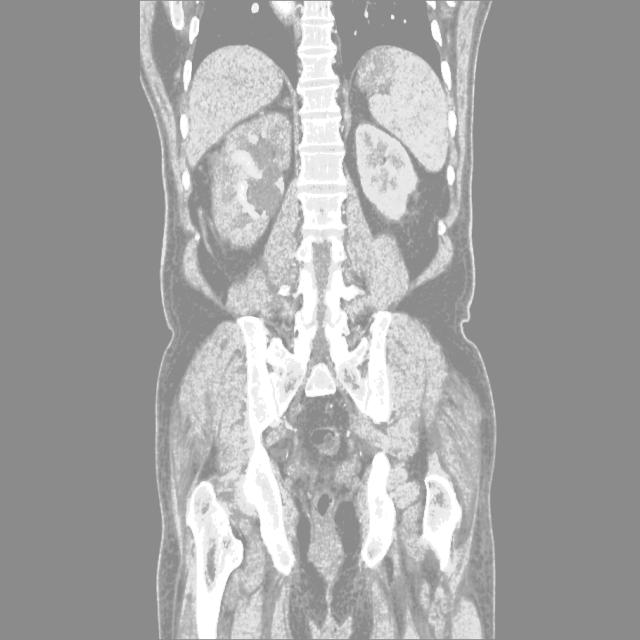TUMOR: (145, 172, 420, 364)
